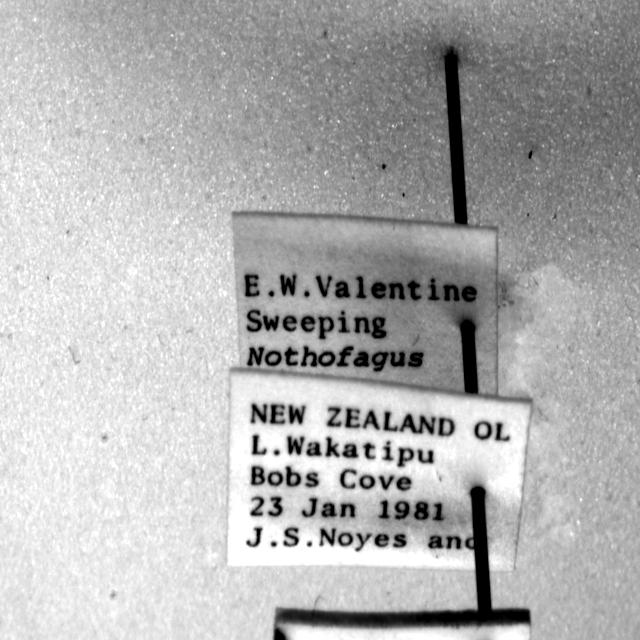typed_label: (228, 369, 531, 570), (232, 212, 498, 394)
